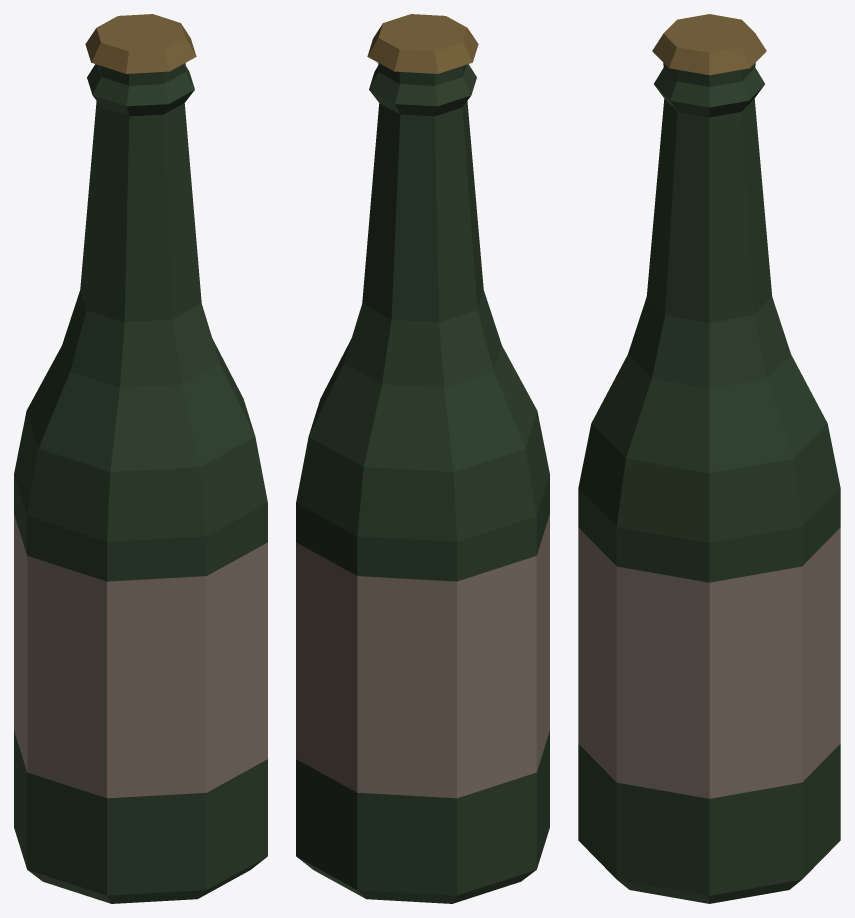
Rendered from bottle1.glb.
The picture shows the model from 3 angles, left to right: view 1: azimuth 30°, elevation 25°; view 2: azimuth 150°, elevation 25°; view 3: azimuth 270°, elevation 25°; orthographic projection.
Parts seen in each view (by area): view 1: Bottle1_Cylinder.008; view 2: Bottle1_Cylinder.008; view 3: Bottle1_Cylinder.008.
Part boxes in pixels (box(x1,y1,x2,y2)): Bottle1_Cylinder.008: box(14, 14, 267, 903); Bottle1_Cylinder.008: box(296, 14, 549, 903); Bottle1_Cylinder.008: box(578, 14, 840, 903).
Size of the model in its own units: 0.4517 by 1.56 by 0.4517.
